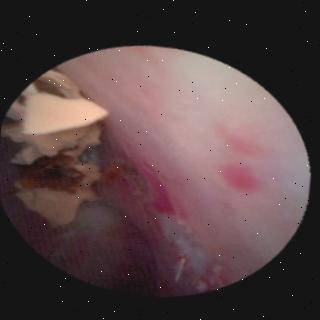stone: (6, 70, 106, 223)
tissue: (12, 47, 303, 286)
